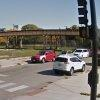Traffic light: (68, 0, 93, 42)
